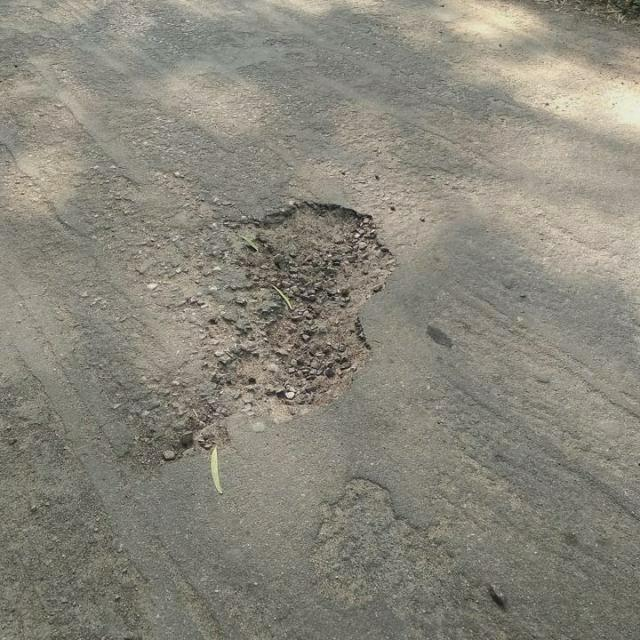Pothole: (216, 198, 401, 423)
